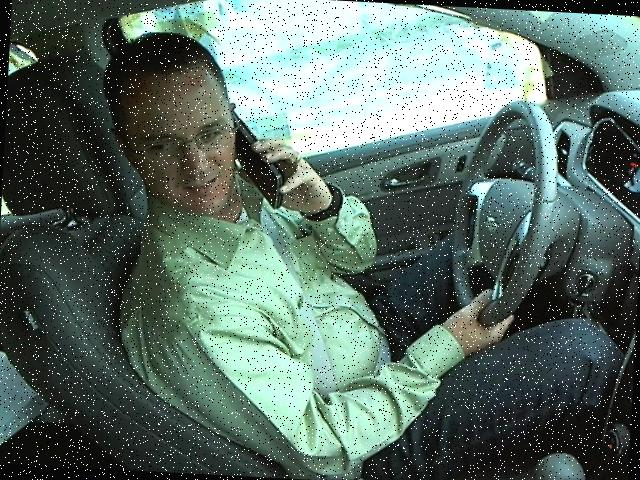c2 - Talking on the phone: (72, 20, 570, 474)
